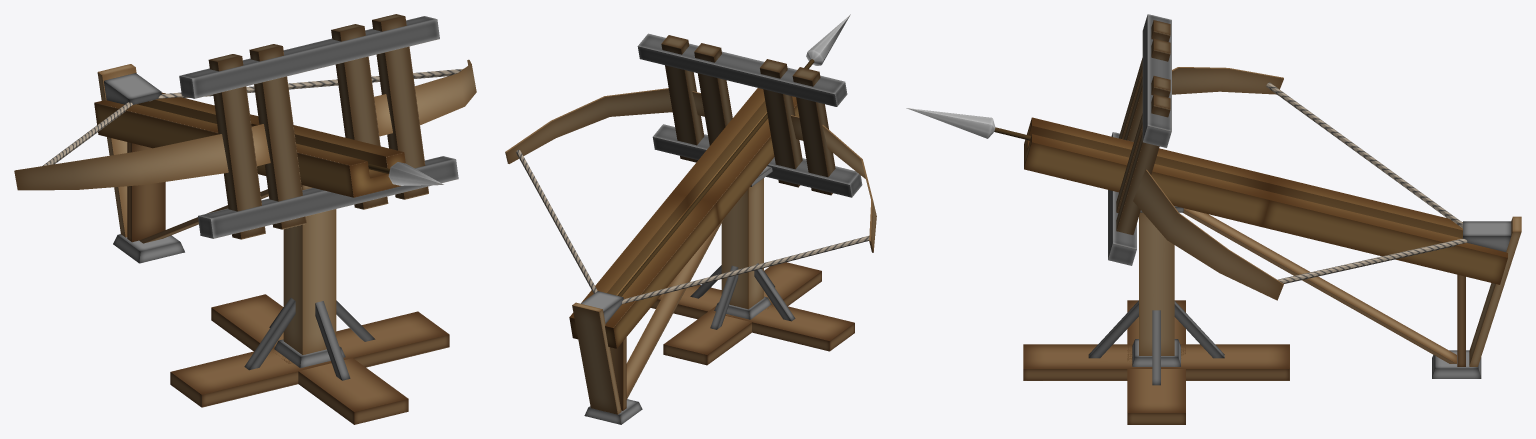
Rendered from 발리스타.fbx.
The picture shows the model from 3 angles, left to right: view 1: azimuth 30°, elevation 25°; view 2: azimuth 150°, elevation 25°; view 3: azimuth 270°, elevation 25°; orthographic projection. The views are drawn at different scales.
Parts seen in each view (by area): view 1: Base; view 2: Base; view 3: Base.
Part boxes in pixels (x1=…): Base: x1=14, y1=14, x2=476, y2=424; Base: x1=505, y1=14, x2=876, y2=424; Base: x1=906, y1=14, x2=1521, y2=424.
Bounding box in the file's own units: 167 × 115 × 210.
1 material, 1 textured.
